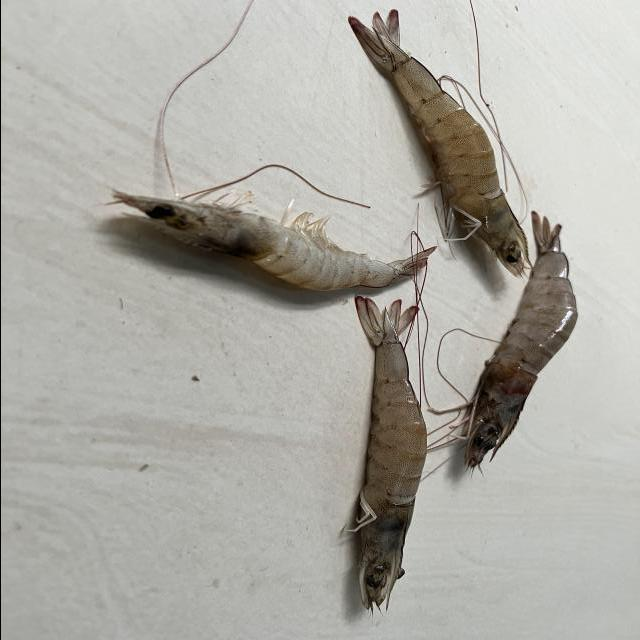shrimp: (348, 9, 530, 277), (112, 190, 435, 291), (465, 212, 578, 470), (348, 296, 426, 610)
